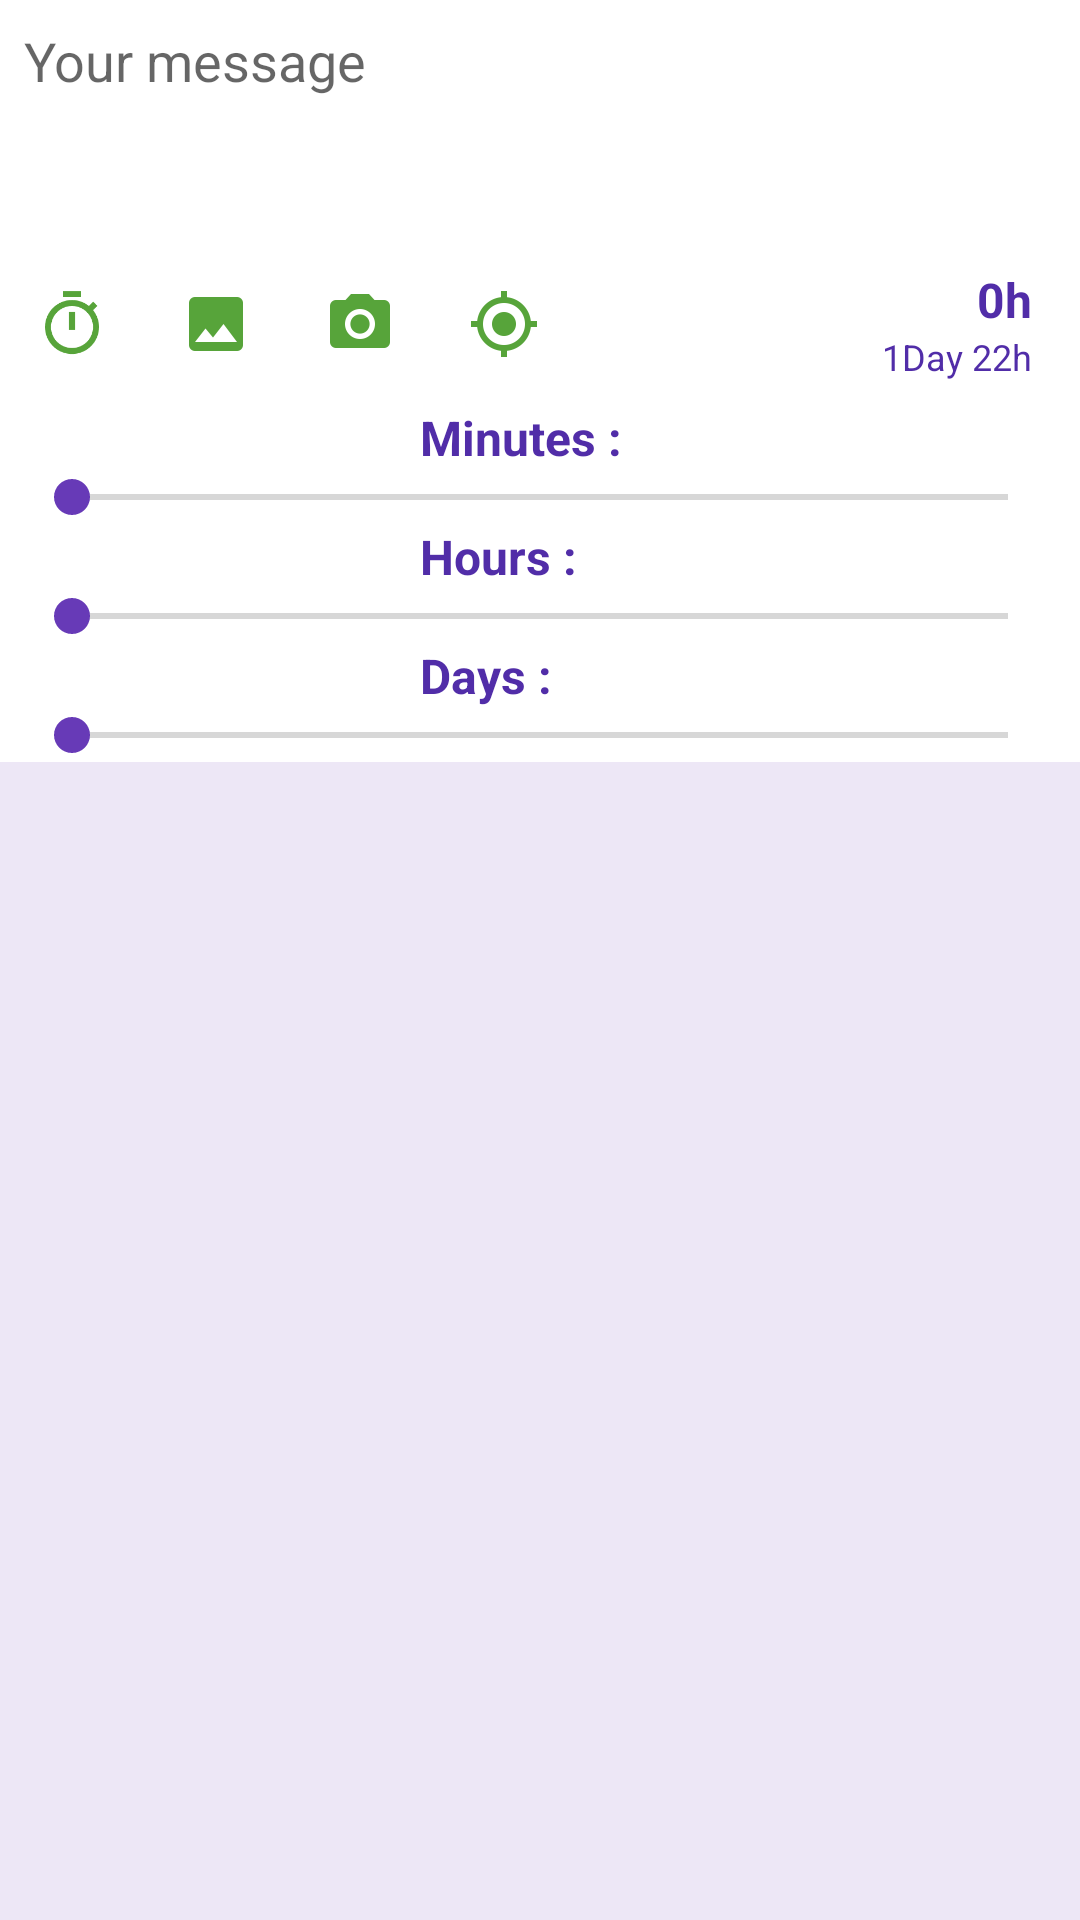

Locate icon controls on the screen. Image size 1080 x 1920, boxes as region(x1, y1, x2, y2).
camera: region(330, 294, 390, 348)
device gps fixed: region(471, 291, 537, 357)
photo: region(189, 297, 243, 351)
timer greenopposite: region(45, 291, 99, 354)
